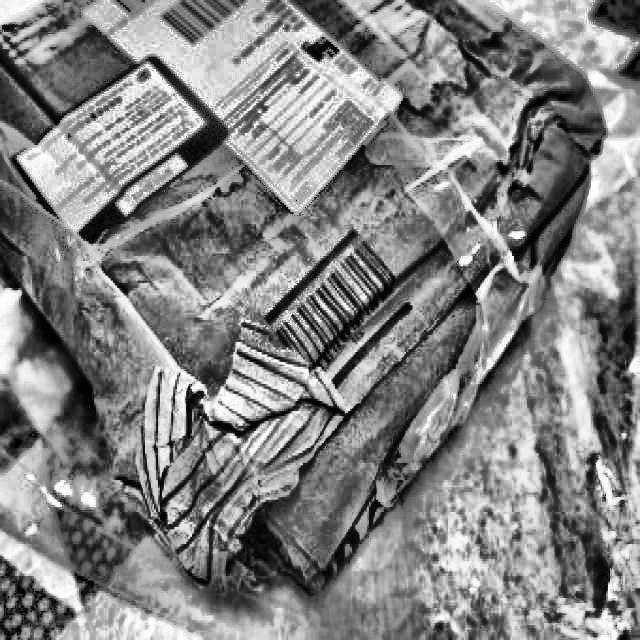box: (0, 0, 617, 632)
hole: (212, 505, 314, 595)
